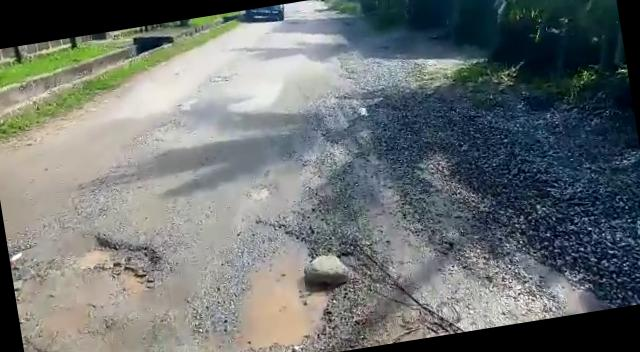pothole: (215, 227, 338, 352), (73, 224, 171, 302)
